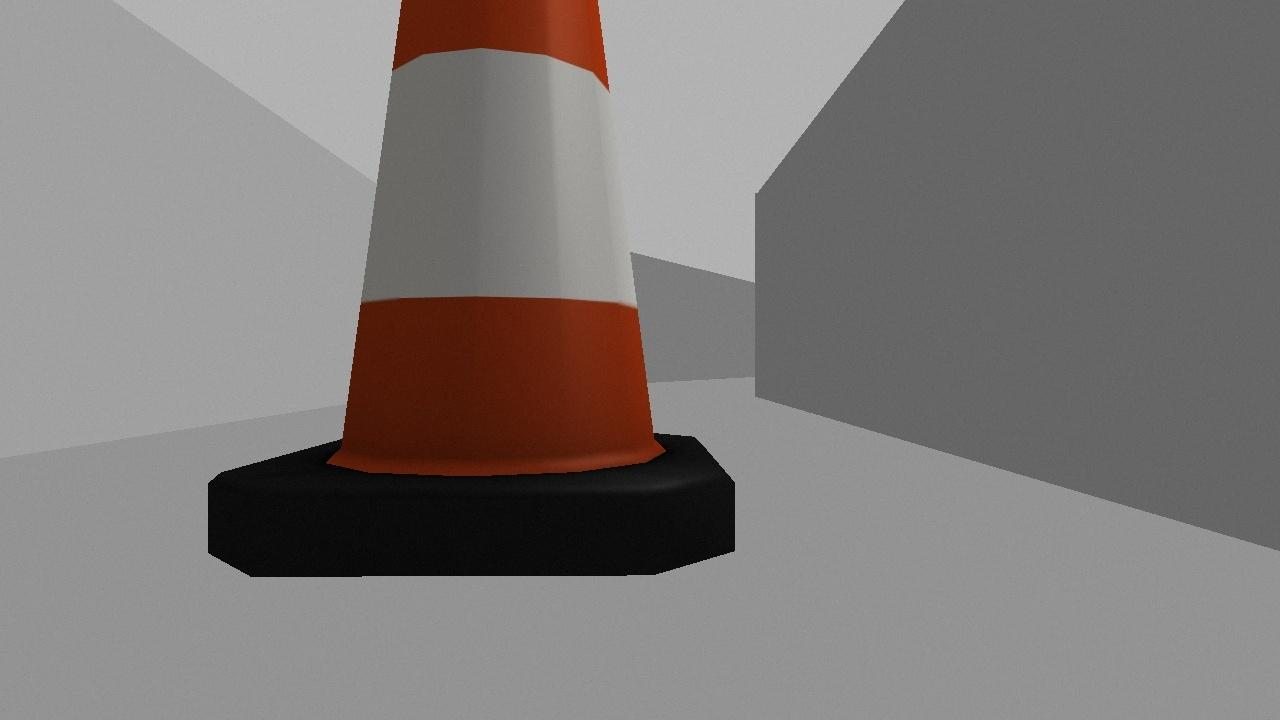cone_barrel: (176, 0, 782, 605)
